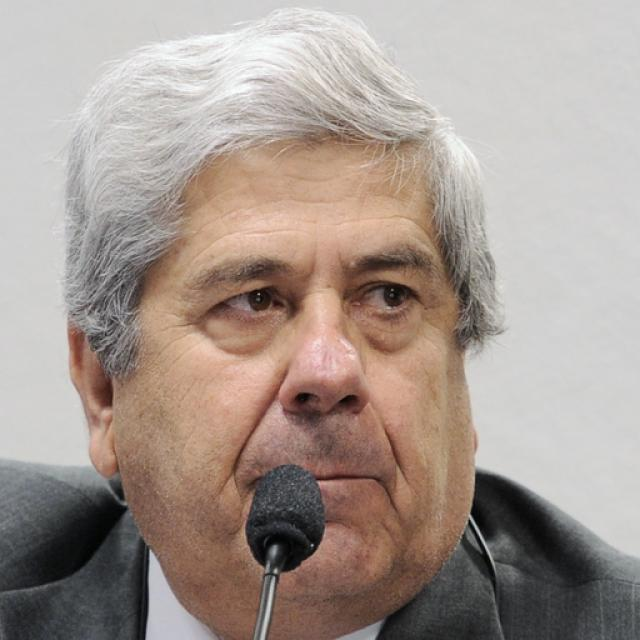disgust: (113, 115, 474, 619)
